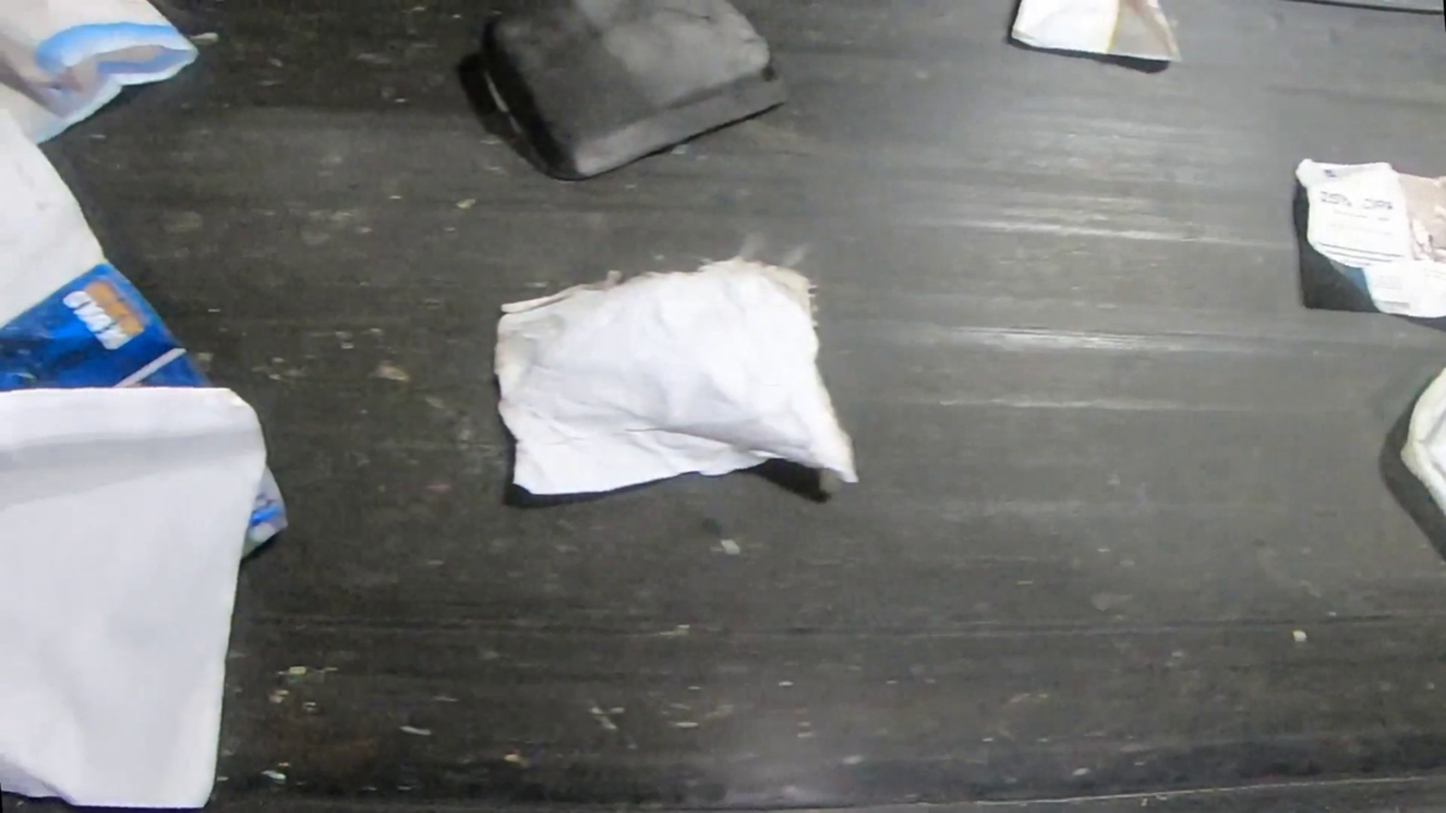plastic: (477, 1, 804, 182), (1401, 365, 1445, 530)
